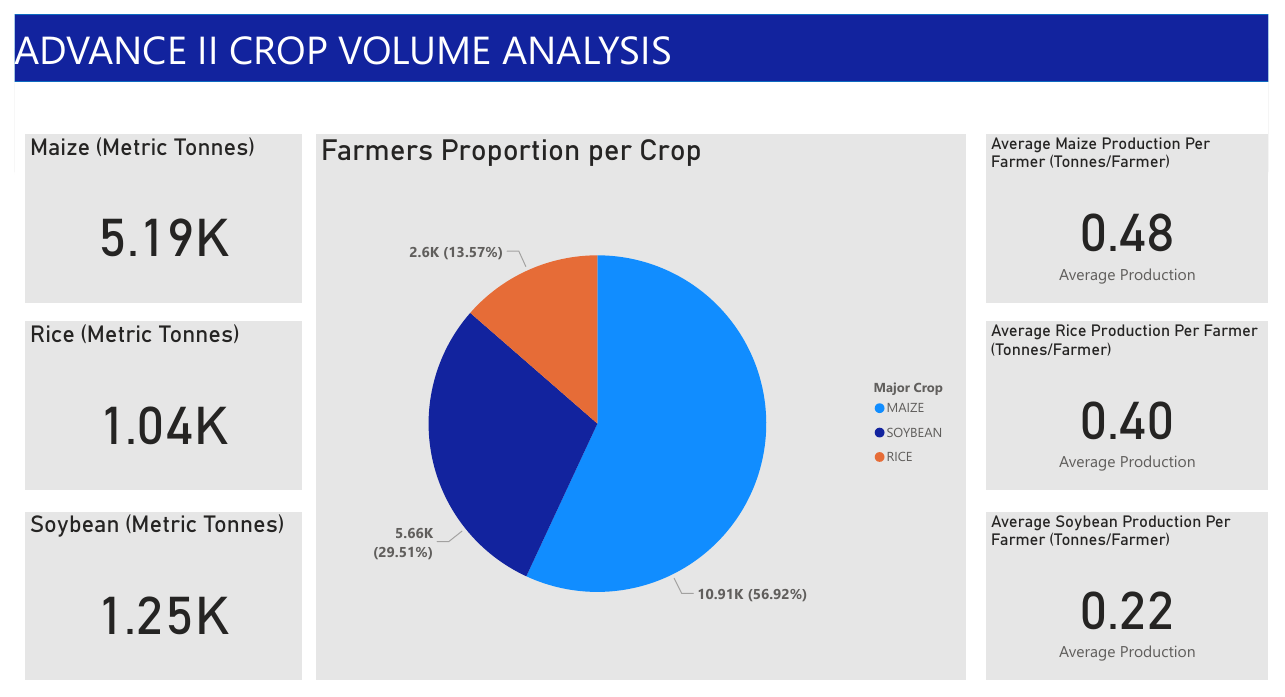

What the dashboard file says about the page in this screenshot:
{"tool":"powerbi","page":{"name":"Question 3","canvas":[1280,720],"ordinal":3},"visuals":[{"type":"shape","box":[0,0,1280.4,68.9],"z":0},{"type":"card","title":"Maize (Metric Tonnes)","fields":{"Values":["Sum(clean_data.Major Crop (TONNES))"]},"box":[11,122,282,173],"z":1000},{"type":"card","title":"Rice (Metric Tonnes)","fields":{"Values":["Sum(clean_data.Major Crop (TONNES))"]},"box":[11,314,282,173],"z":2000},{"type":"card","title":"Soybean (Metric Tonnes)","fields":{"Values":["Sum(clean_data.Major Crop (TONNES))"]},"box":[11,509,282,173],"z":3000},{"type":"pieChart","title":"Farmers Proportion per Crop","fields":{"Category":["clean_data.Major Crop"],"Y":["CountNonNull(clean_data.Major Crop)"]},"box":[308,122,663,560],"z":4000},{"type":"card","title":"Average Maize Production Per Farmer (Tonnes/Farmer)","fields":{"Values":["clean_data.Average Production"]},"box":[992,122,288,173],"z":5000},{"type":"card","title":"Average Rice Production Per Farmer (Tonnes/Farmer)","fields":{"Values":["clean_data.Average Production"]},"box":[992,314,288,173],"z":6000},{"type":"card","title":"Average Soybean Production Per Farmer (Tonnes/Farmer)","fields":{"Values":["clean_data.Average Production"]},"box":[992,509,288,173],"z":7000}]}

Visuals, with their boxes on the page's 1280x720 design canvas (x1, y1, x2, y2). These are canvas units, not pixel positions in the 1285x697 screenshot, which may show the page scaled, cropped or inside an application window:
shape: [x1=0, y1=0, x2=1280, y2=69]
"Maize (Metric Tonnes)" card: [x1=11, y1=122, x2=293, y2=295]
"Rice (Metric Tonnes)" card: [x1=11, y1=314, x2=293, y2=487]
"Soybean (Metric Tonnes)" card: [x1=11, y1=509, x2=293, y2=682]
"Farmers Proportion per Crop" pieChart: [x1=308, y1=122, x2=971, y2=682]
"Average Maize Production Per Farmer (Tonnes/Farmer)" card: [x1=992, y1=122, x2=1280, y2=295]
"Average Rice Production Per Farmer (Tonnes/Farmer)" card: [x1=992, y1=314, x2=1280, y2=487]
"Average Soybean Production Per Farmer (Tonnes/Farmer)" card: [x1=992, y1=509, x2=1280, y2=682]
